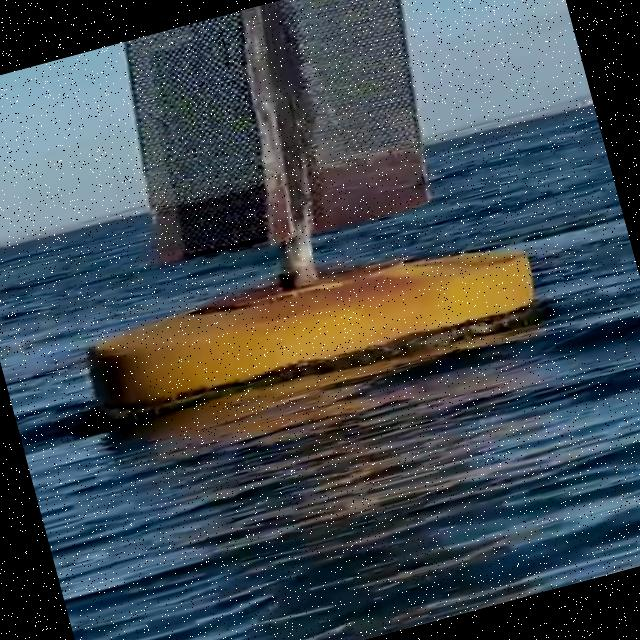marque: (4, 1, 545, 442)
